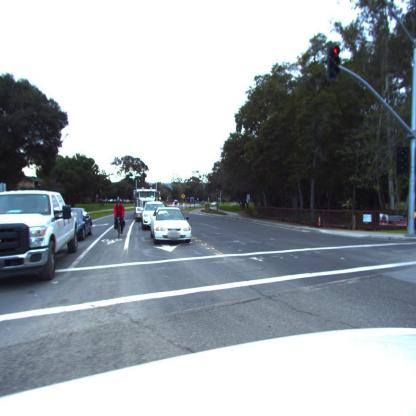bicycle: (116, 217, 126, 236)
car: (151, 208, 192, 245), (70, 206, 94, 240), (141, 202, 165, 227)
person: (113, 200, 125, 236)
traffic light: (329, 46, 341, 79), (397, 148, 410, 174)
truck: (0, 189, 80, 284), (134, 193, 162, 223)
